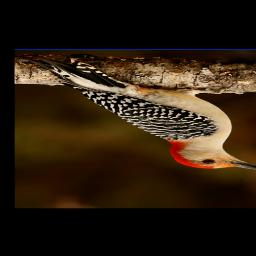Woodpecker: (20, 53, 256, 171)
